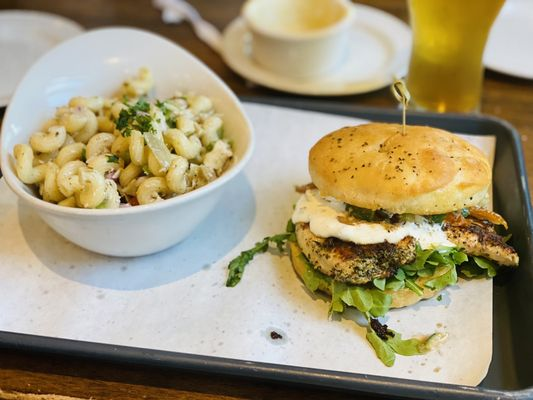pizza: (240, 0, 355, 81)
soup: (283, 120, 519, 319)
sushi: (1, 27, 255, 258)
